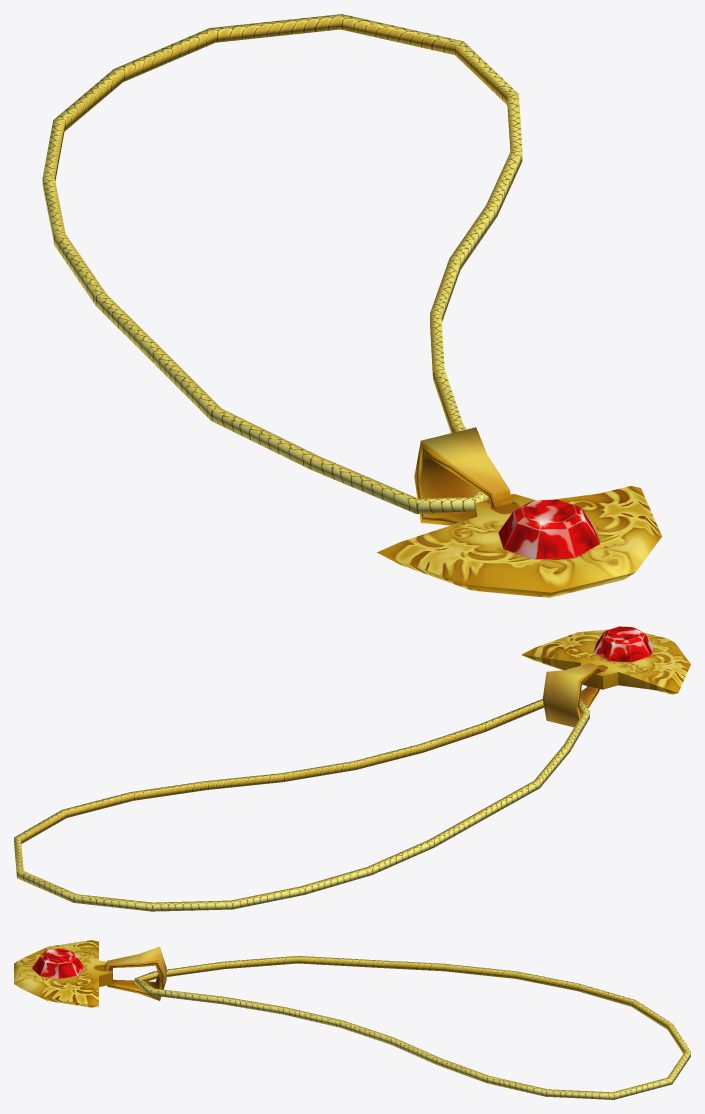
File: pendant_01.fbx
3 renders of one model, top to bottom at view 1: azimuth 30°, elevation 25°; view 2: azimuth 150°, elevation 25°; view 3: azimuth 270°, elevation 25°, orthographic. The views are drawn at different scales.
Visible parts, largest first — view 1: pendant_01; view 2: pendant_01; view 3: pendant_01.
Boxes of the visible parts, bbox=[...] form: pendant_01: bbox=[42, 14, 661, 597]; pendant_01: bbox=[14, 626, 690, 911]; pendant_01: bbox=[14, 940, 690, 1099].
Size of the model in its own units: 15.07 by 1.97 by 29.35.
